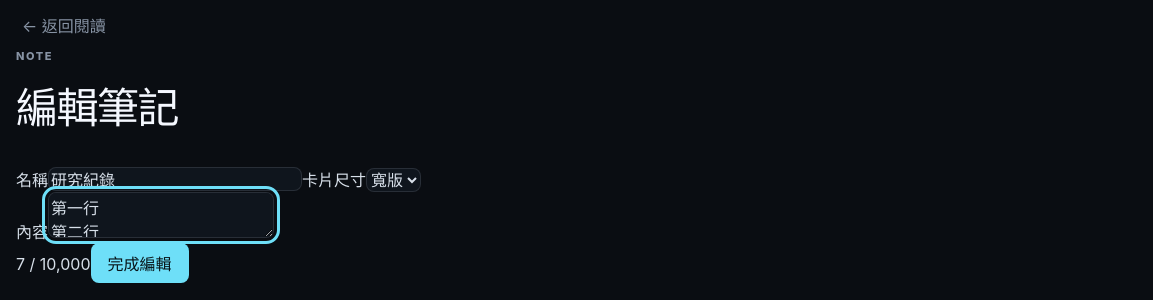
Test: NoteWorkspace › 完成編輯前保存內容與卡片外觀
Replace the text in the text box labelled "內容" with "新的內容" at (161, 215), box [48,192,274,238]
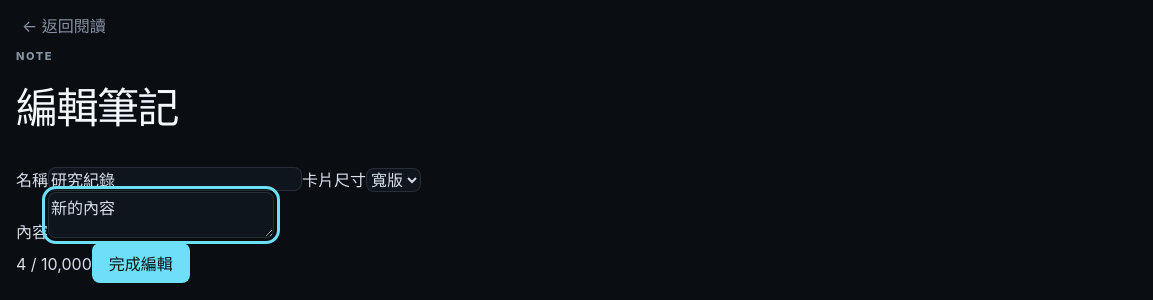
Replace the text in the field labelled "名稱" with "新名稱" at (175, 179), box [48,167,302,191]
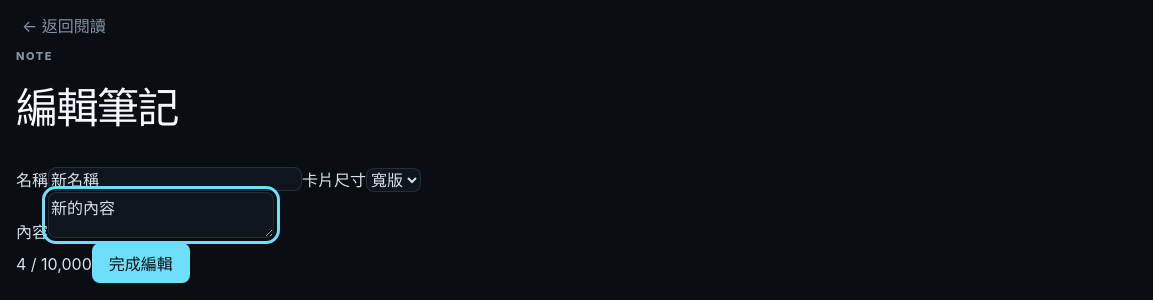
Click the button "完成編輯" at (141, 263), box [92,243,190,283]
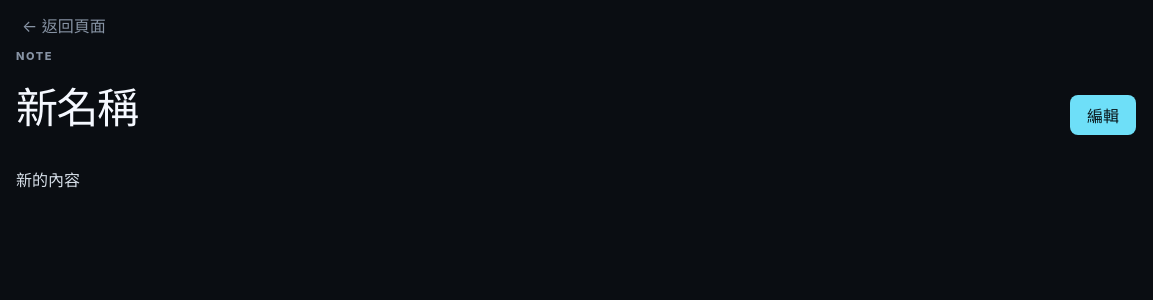
Expected: the text "新的內容" is shown, [16,170,80,190]
